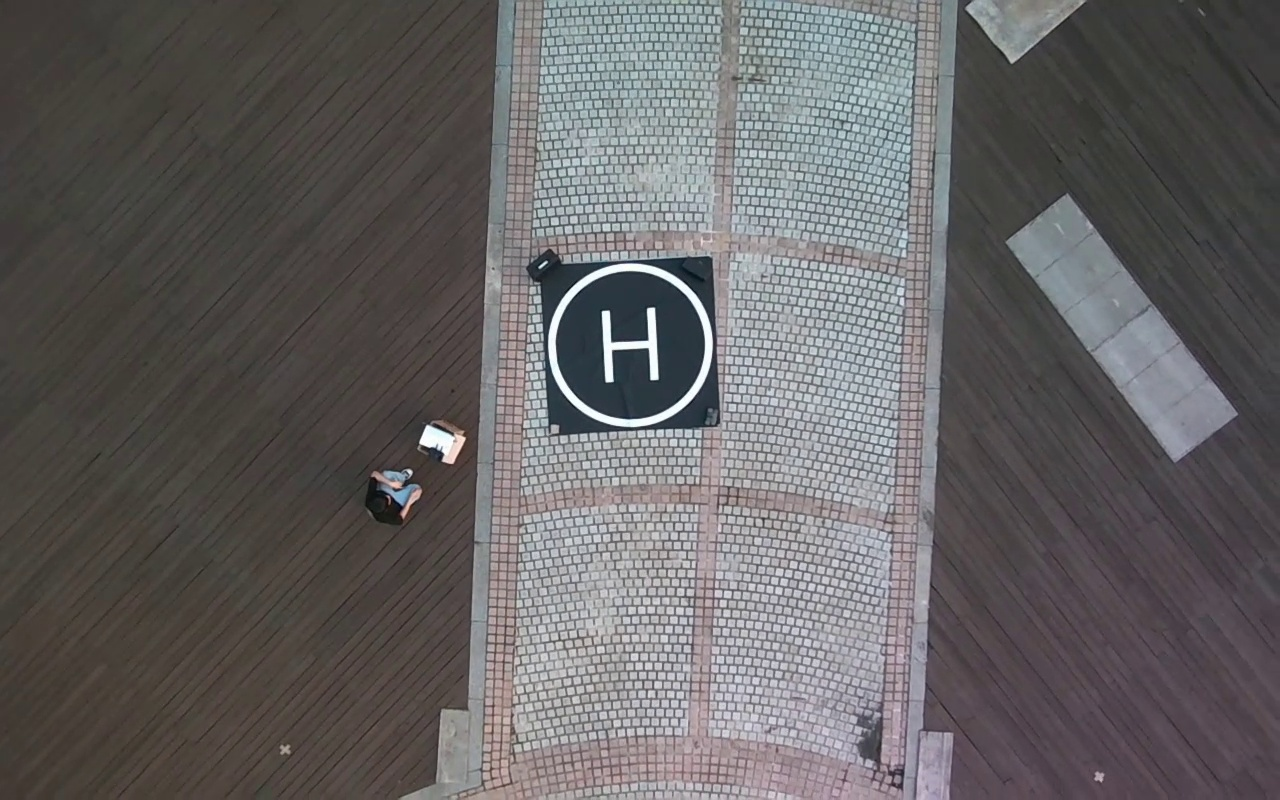H: (599, 305, 660, 383)
heliport: (547, 262, 716, 431)
